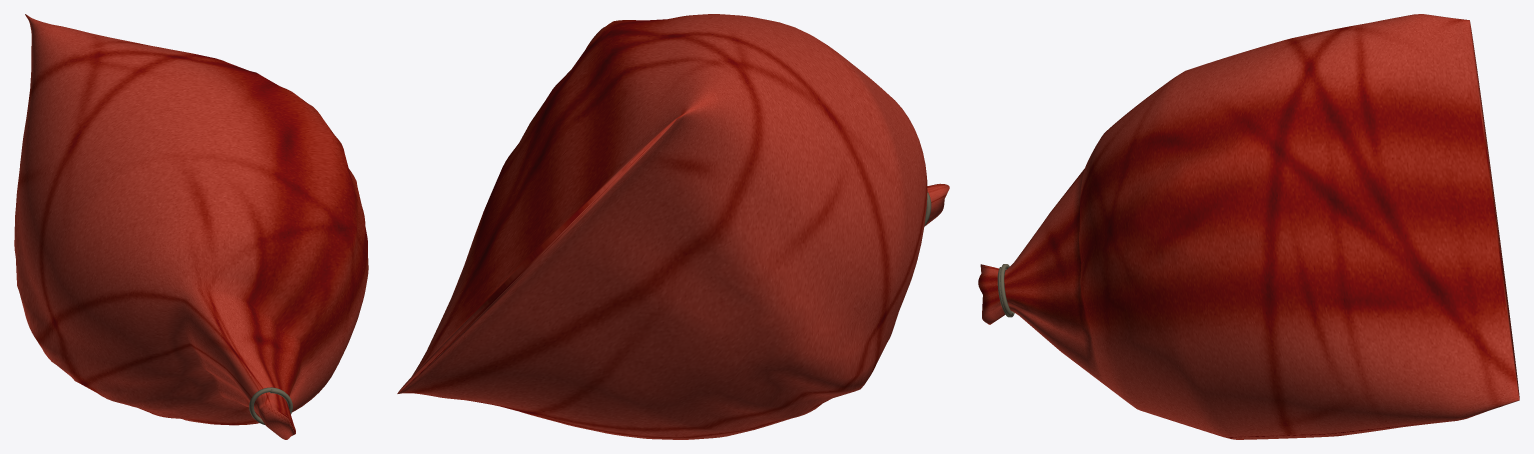
Rendered from peach_01_023.glb.
3 views of the same model, side by side, from view 1: azimuth 30°, elevation 25°; view 2: azimuth 150°, elevation 25°; view 3: azimuth 270°, elevation 25° (orthographic). The views are drawn at different scales.
Visible parts, largest first — view 1: export_Tree01/shoot1_6_1/bag, export_Tree01/shoot1_6_1/bag/tie; view 2: export_Tree01/shoot1_6_1/bag; view 3: export_Tree01/shoot1_6_1/bag.
Boxes of the visible parts, box(x1,y1,x2,y2) form: export_Tree01/shoot1_6_1/bag: box(14, 14, 368, 439); export_Tree01/shoot1_6_1/bag/tie: box(249, 387, 292, 424); export_Tree01/shoot1_6_1/bag: box(397, 14, 949, 439); export_Tree01/shoot1_6_1/bag: box(978, 14, 1519, 439).
Bounding box in the file's own units: 0.0901 × 0.0972 × 0.1303.
Materials: 4 (1 with a texture image).
